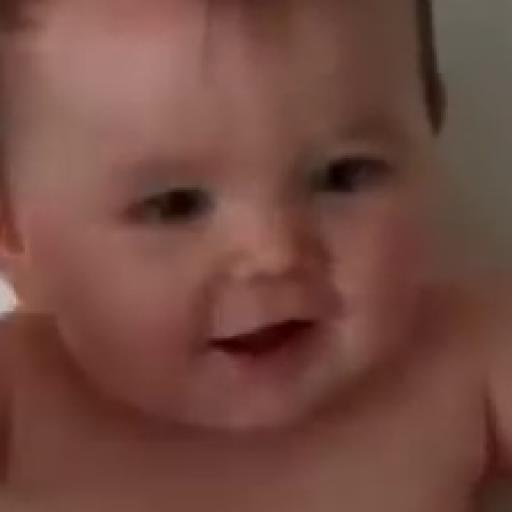Autism: (18, 2, 455, 449)
